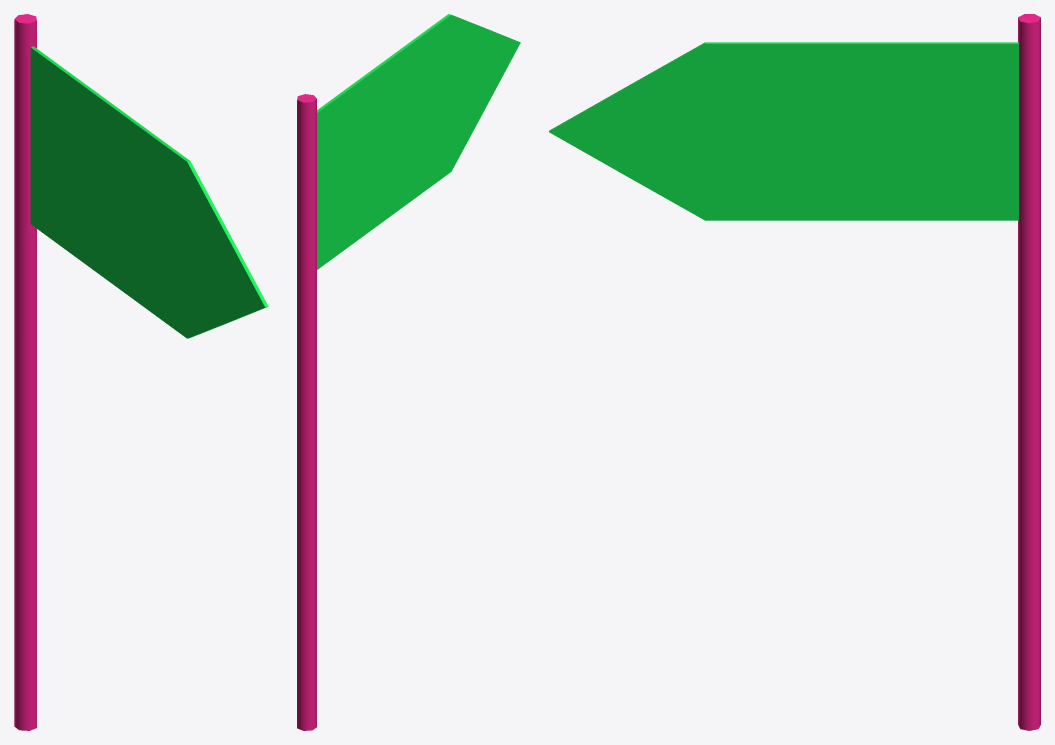
The model's file is OU_AR_Flag_01_D.fbx.
The picture shows the model from 3 angles, left to right: view 1: azimuth 30°, elevation 25°; view 2: azimuth 150°, elevation 25°; view 3: azimuth 270°, elevation 25°; orthographic projection. The views are drawn at different scales.
Parts seen in each view (by area): view 1: Plane001; view 2: Plane001; view 3: Plane001.
Part boxes in pixels (x1,y1,x2,y2): Plane001: (14,14,268,730); Plane001: (297,14,520,730); Plane001: (549,14,1040,730).
Bounding box in the file's own units: 5.7 × 200 × 126.
